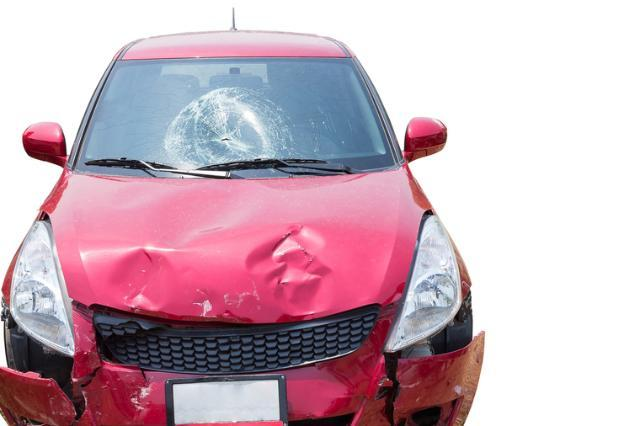Bonnet: (54, 175, 412, 310)
Bumper: (1, 340, 490, 426)
Windshield: (99, 60, 393, 170)
